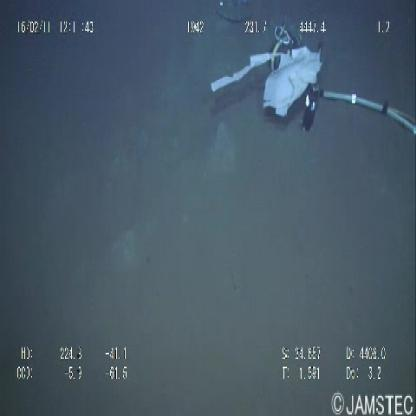Rác: (208, 31, 322, 122)
